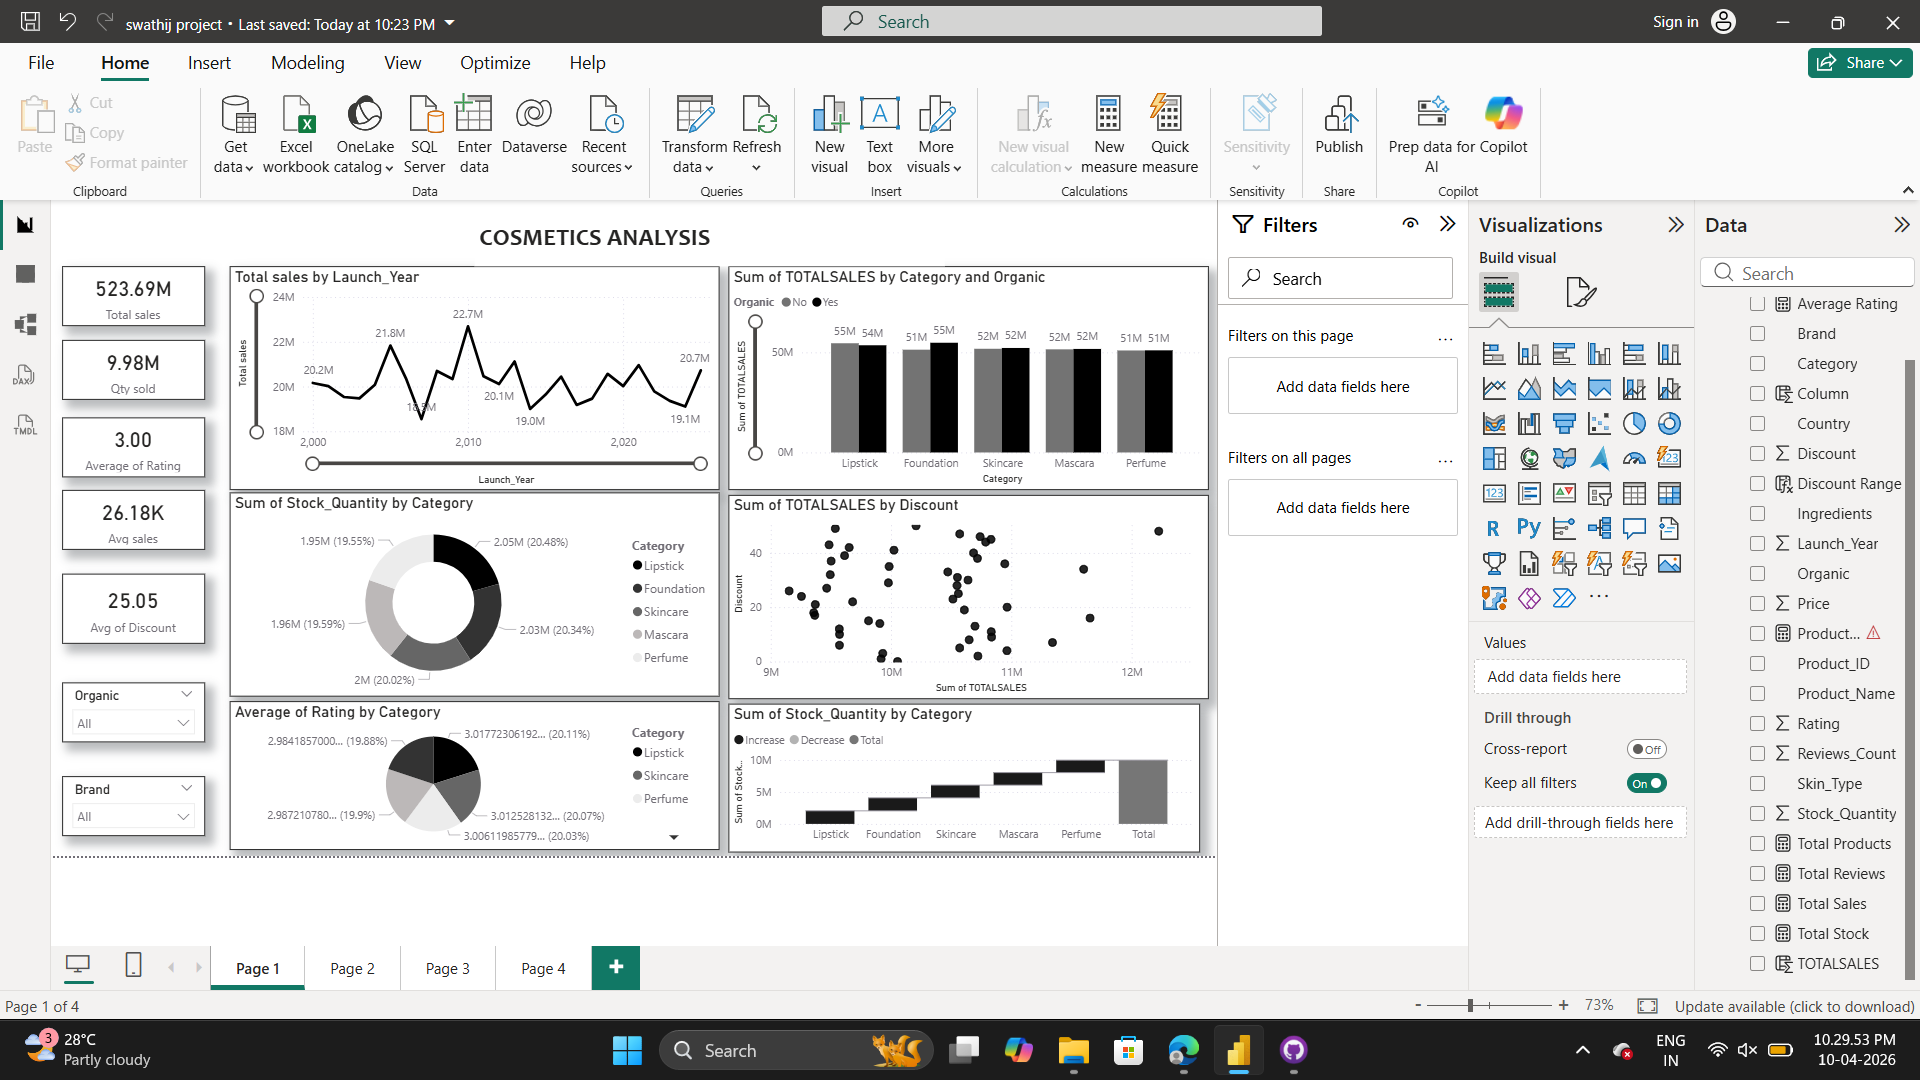

What the dashboard file says about the page in this screenshot:
{"tool":"powerbi","page":{"name":"Page 1","canvas":[1280,720],"ordinal":0},"visuals":[{"type":"card","fields":{"Values":["Sum(cosmetics_dataset_20000-1 (1).TOTALSALES)"]},"box":[12.3,72.4,156.4,65.9],"z":2000},{"type":"card","fields":{"Values":["Sum(cosmetics_dataset_20000-1 (1).Stock_Quantity)"]},"box":[12.3,153.7,156.4,65.9],"z":3000},{"type":"card","fields":{"Values":["Avg(cosmetics_dataset_20000-1 (1).Rating)"]},"box":[12.3,238.8,156.4,65.9],"z":4000},{"type":"card","fields":{"Values":["Avg(cosmetics_dataset_20000-1 (1).TOTALSALES)"]},"box":[12.3,318.4,156.4,65.9],"z":5000},{"type":"lineChart","fields":{"Y":["Sum(cosmetics_dataset_20000-1 (1).TOTALSALES)"],"Category":["cosmetics_dataset_20000-1 (1).Launch_Year"]},"box":[196.2,72.7,537.9,245.6],"z":6000},{"type":"clusteredColumnChart","fields":{"Category":["cosmetics_dataset_20000-1 (1).Category"],"Y":["Sum(cosmetics_dataset_20000-1 (1).TOTALSALES)"],"Series":["cosmetics_dataset_20000-1 (1).Organic"]},"box":[743.7,72.7,526.9,245.6],"z":7000},{"type":"slicer","fields":{"Values":["cosmetics_dataset_20000-1 (1).Organic"]},"box":[12.3,529.7,156.4,65.9],"z":8000},{"type":"donutChart","fields":{"Category":["cosmetics_dataset_20000-1 (1).Category"],"Y":["Sum(cosmetics_dataset_20000-1 (1).Stock_Quantity)"]},"box":[196.2,321.1,537.9,223.7],"z":9000},{"type":"scatterChart","fields":{"X":["Sum(cosmetics_dataset_20000-1 (1).TOTALSALES)"],"Y":["cosmetics_dataset_20000-1 (1).Discount"]},"box":[744,324,527,224],"z":10000},{"type":"slicer","fields":{"Values":["cosmetics_dataset_20000-1 (1).Brand"]},"box":[12.3,632.6,156.4,65.9],"z":11000},{"type":"pieChart","fields":{"Category":["cosmetics_dataset_20000-1 (1).Category"],"Y":["Avg(cosmetics_dataset_20000-1 (1).Rating)"]},"box":[196.2,550.3,537.9,163.3],"z":12000},{"type":"waterfallChart","fields":{"Category":["cosmetics_dataset_20000-1 (1).Category"],"Y":["Sum(cosmetics_dataset_20000-1 (1).Stock_Quantity)"]},"box":[743.7,553,517.3,163.3],"z":13000},{"type":"card","fields":{"Values":["Avg(cosmetics_dataset_20000-1 (1).Discount)"]},"box":[12.3,410.3,156.4,76.8],"z":14000},{"type":"textbox","box":[465.2,19.2,516,53.5],"z":14001}]}

Visuals, with their boxes on the page's 1280x720 design canvas (x1, y1, x2, y2). These are canvas units, not pixel positions in the 1920x1080 screenshot, which may show the page scaled, cropped or inside an application window:
card - Sum(cosmetics_dataset_20000-1 (1).TOTALSALES): <box>12,72,169,138</box>
card - Sum(cosmetics_dataset_20000-1 (1).Stock_Quantity): <box>12,154,169,220</box>
card - Avg(cosmetics_dataset_20000-1 (1).Rating): <box>12,239,169,305</box>
card - Avg(cosmetics_dataset_20000-1 (1).TOTALSALES): <box>12,318,169,384</box>
lineChart - Sum(cosmetics_dataset_20000-1 (1).TOTALSALES) x cosmetics_dataset_20000-1 (1).Launch_Year: <box>196,73,734,318</box>
clusteredColumnChart - cosmetics_dataset_20000-1 (1).Category x Sum(cosmetics_dataset_20000-1 (1).TOTALSALES): <box>744,73,1271,318</box>
slicer - cosmetics_dataset_20000-1 (1).Organic: <box>12,530,169,596</box>
donutChart - cosmetics_dataset_20000-1 (1).Category x Sum(cosmetics_dataset_20000-1 (1).Stock_Quantity): <box>196,321,734,545</box>
scatterChart - Sum(cosmetics_dataset_20000-1 (1).TOTALSALES) x cosmetics_dataset_20000-1 (1).Discount: <box>744,324,1271,548</box>
slicer - cosmetics_dataset_20000-1 (1).Brand: <box>12,633,169,698</box>
pieChart - cosmetics_dataset_20000-1 (1).Category x Avg(cosmetics_dataset_20000-1 (1).Rating): <box>196,550,734,714</box>
waterfallChart - cosmetics_dataset_20000-1 (1).Category x Sum(cosmetics_dataset_20000-1 (1).Stock_Quantity): <box>744,553,1261,716</box>
card - Avg(cosmetics_dataset_20000-1 (1).Discount): <box>12,410,169,487</box>
textbox: <box>465,19,981,73</box>
